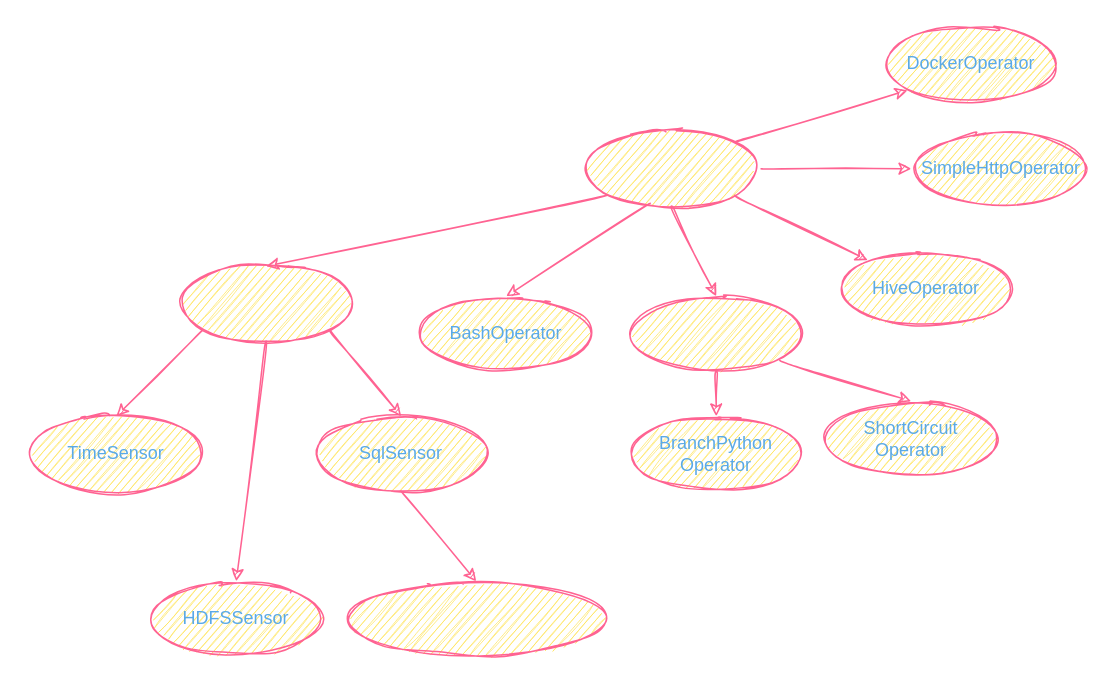
The diagram is 1118 pixels wide and 683 high, and some of its shapes have lost their labels. Each missing label, with the centre of its shape:
"BaseOperator" belongs at point (670, 168).
"BaseSensor Operator" belongs at point (265, 303).
"MetaStorePartitionSensor" belongs at point (475, 618).
"PythonOperator" belongs at point (715, 333).
